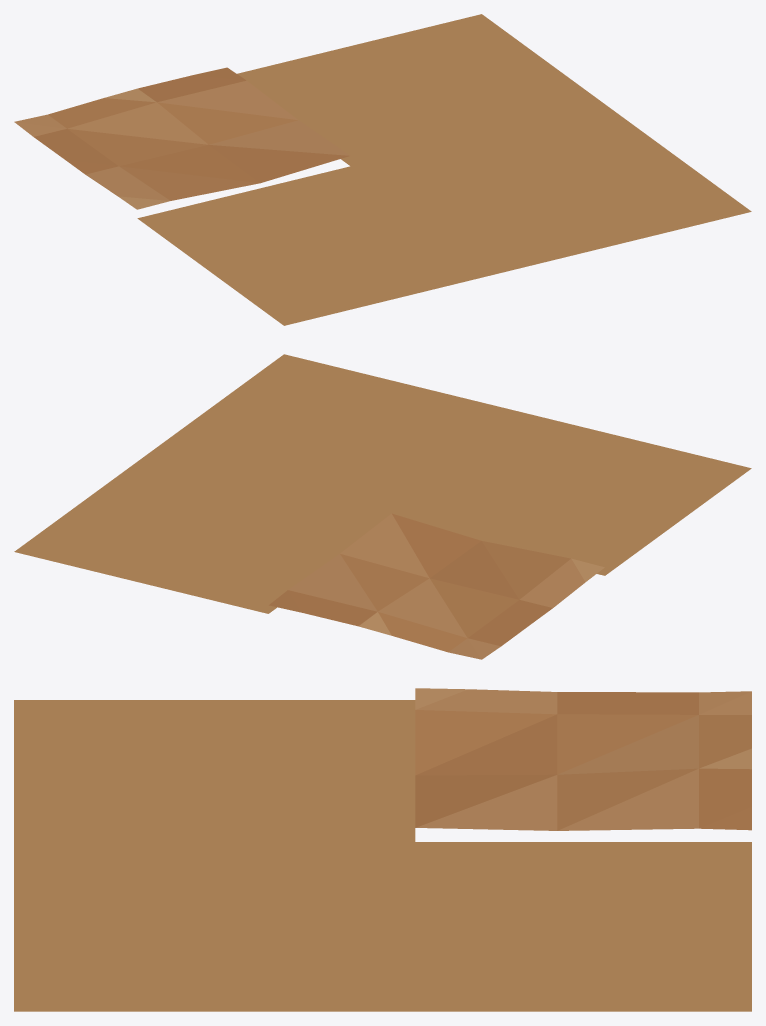
3 renders of one model, top to bottom at view 1: azimuth 30°, elevation 25°; view 2: azimuth 150°, elevation 25°; view 3: azimuth 270°, elevation 25°, orthographic. The views are drawn at different scales.
Parts seen in each view (by area): view 1: baked; view 2: baked; view 3: baked.
Part boxes in pixels (x1=…): baked: x1=14, y1=14, x2=751, y2=325; baked: x1=14, y1=354, x2=751, y2=659; baked: x1=14, y1=688, x2=751, y2=1011.
Size of the model in its own units: 62.5 by 1.33 by 62.5.
